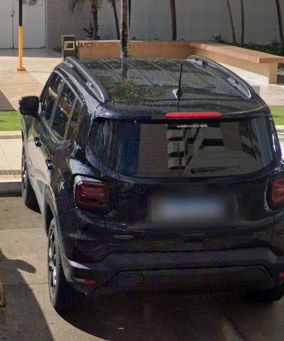car: (15, 56, 284, 319)
